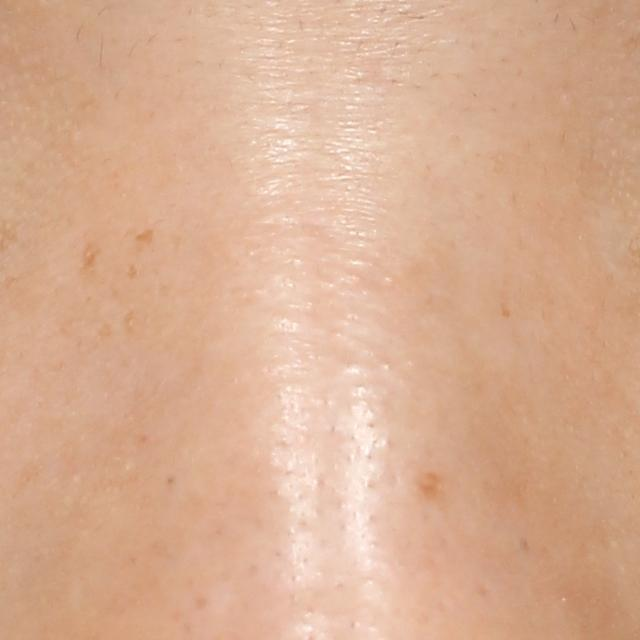melasma: (422, 468, 450, 504), (80, 234, 103, 274), (132, 226, 157, 247), (123, 261, 142, 279)
